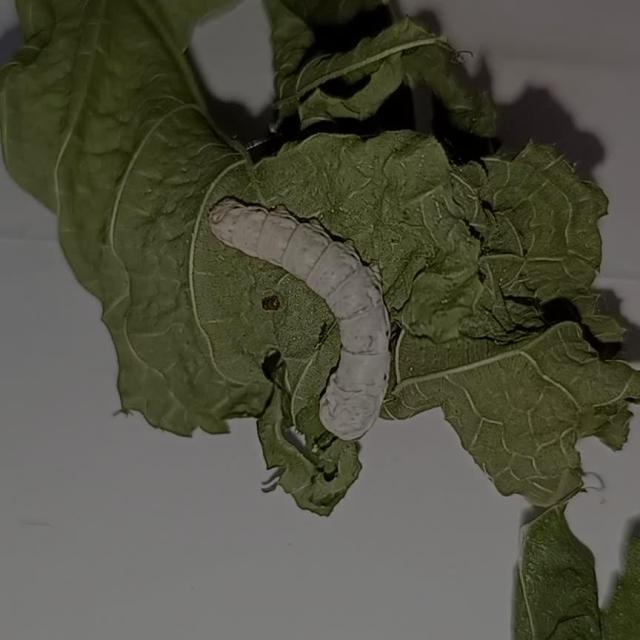Healthy: (187, 170, 433, 466)
